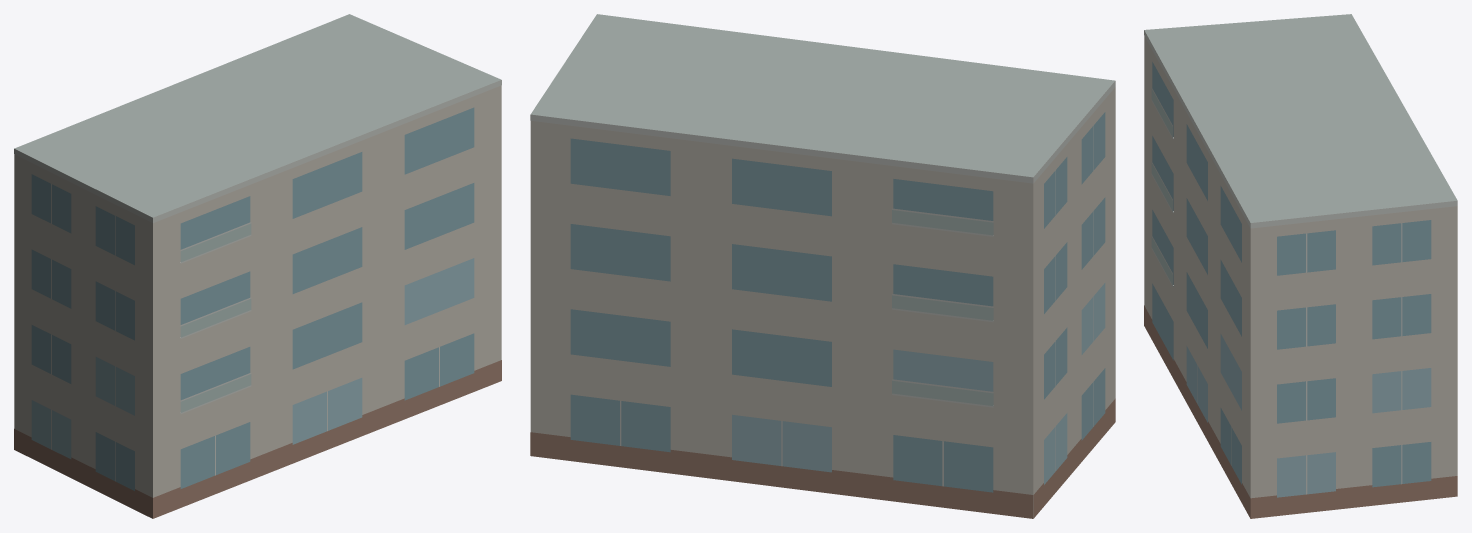
The model's file is survey-upis-32755459.glb.
3 views of the same model, side by side, from view 1: azimuth 30°, elevation 25°; view 2: azimuth 150°, elevation 25°; view 3: azimuth 270°, elevation 25° (orthographic). The views are drawn at different scales.
Parts seen in each view (by area): view 1: survey-upis-32755459.tmp; view 2: survey-upis-32755459.tmp; view 3: survey-upis-32755459.tmp.
Boxes of the visible parts, x1=… form: survey-upis-32755459.tmp: x1=14, y1=14, x2=501, y2=518; survey-upis-32755459.tmp: x1=530, y1=14, x2=1115, y2=518; survey-upis-32755459.tmp: x1=1144, y1=14, x2=1457, y2=518.
Size of the model in its own units: 20.17 by 13.3 by 12.79.
